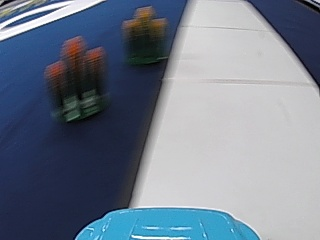corn: (45, 33, 108, 122), (122, 3, 168, 63)
